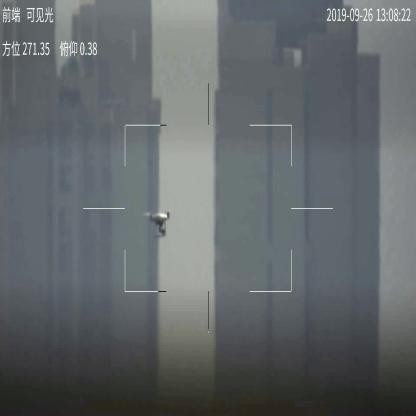uav: (139, 209, 172, 237)
